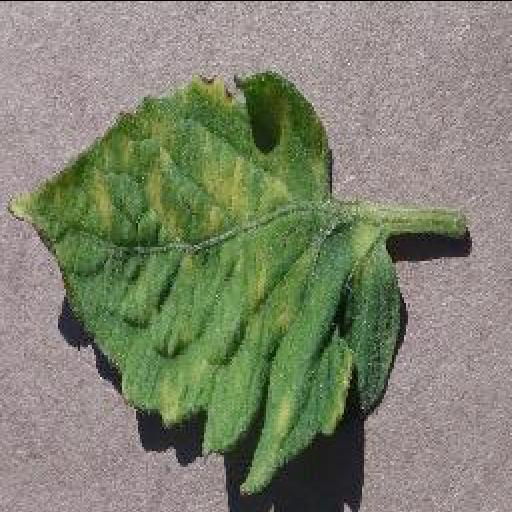disease_tomato: (3, 70, 405, 496)
